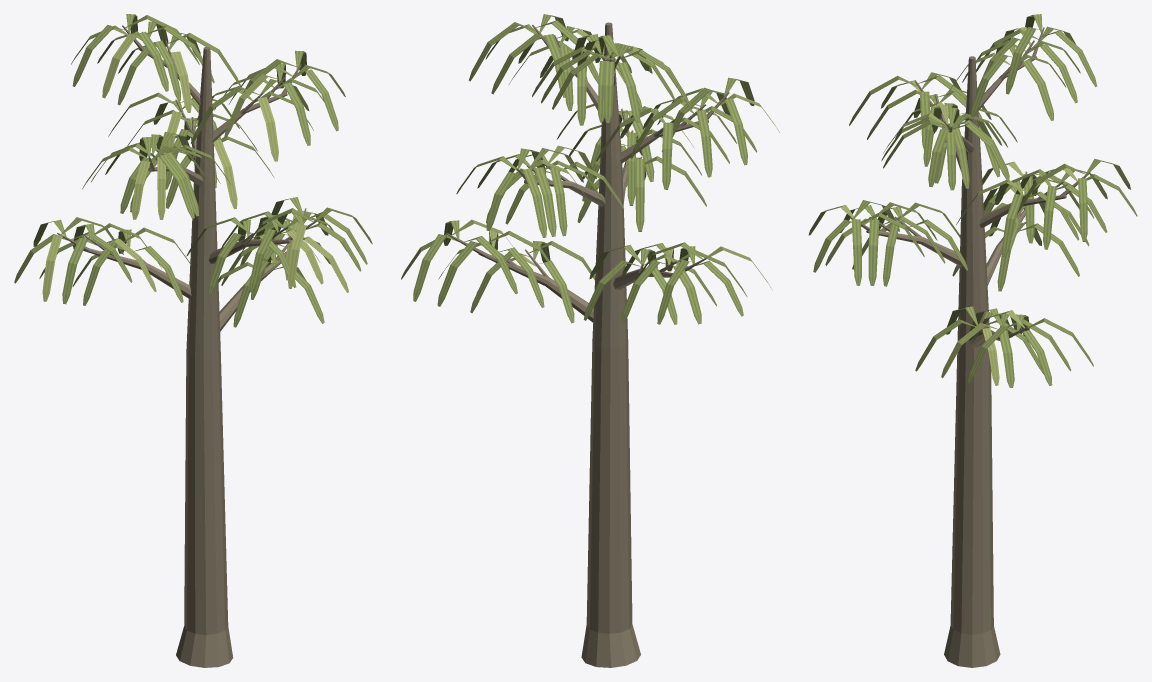
File: cordaites.glb
3 views of the same model, side by side, from view 1: azimuth 30°, elevation 25°; view 2: azimuth 150°, elevation 25°; view 3: azimuth 270°, elevation 25° (orthographic). The views are drawn at different scales.
Visible parts, largest first — view 1: individual-parallel-sided-strap-leaves-equal-vein-bands, upland-juvenile-trunk-and-upper-woody-crown; view 2: individual-parallel-sided-strap-leaves-equal-vein-bands, upland-juvenile-trunk-and-upper-woody-crown; view 3: individual-parallel-sided-strap-leaves-equal-vein-bands, upland-juvenile-trunk-and-upper-woody-crown.
Boxes of the visible parts, x1,y1,x2,y2 form: individual-parallel-sided-strap-leaves-equal-vein-bands: (14, 14, 372, 327); upland-juvenile-trunk-and-upper-woody-crown: (57, 25, 317, 667); individual-parallel-sided-strap-leaves-equal-vein-bands: (401, 14, 779, 324); upland-juvenile-trunk-and-upper-woody-crown: (446, 22, 729, 667); individual-parallel-sided-strap-leaves-equal-vein-bands: (808, 14, 1137, 387); upland-juvenile-trunk-and-upper-woody-crown: (850, 27, 1090, 667).
Bounding box in the file's own units: 3.87 × 7.2 × 3.49.
